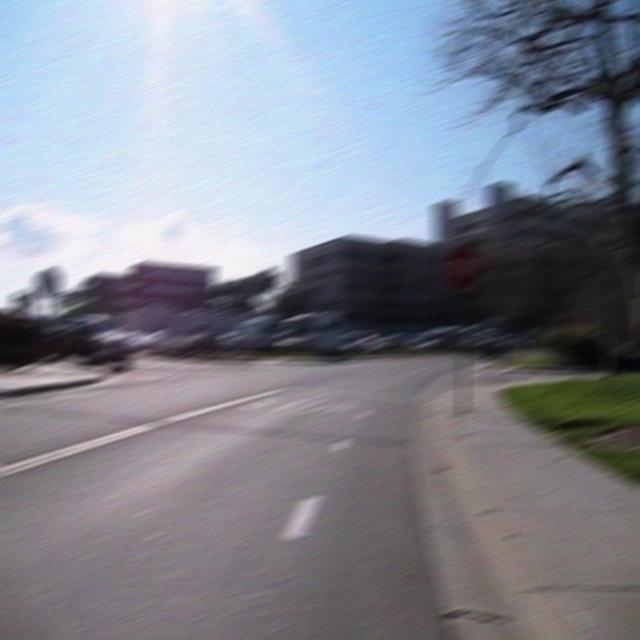stop: (442, 242, 484, 293)
